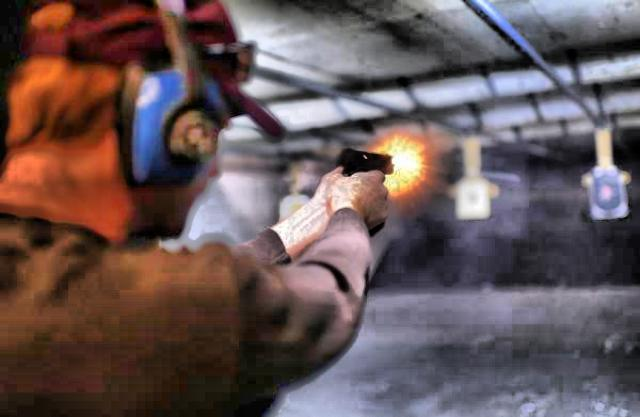pistol: (335, 148, 393, 238)
